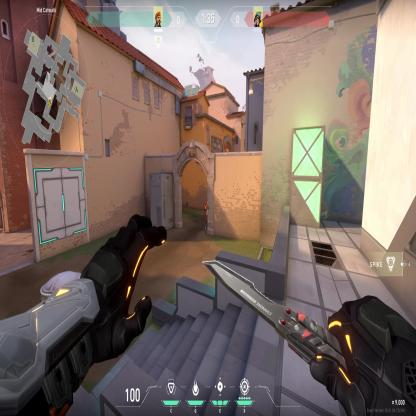enemy: (204, 200, 208, 231)
